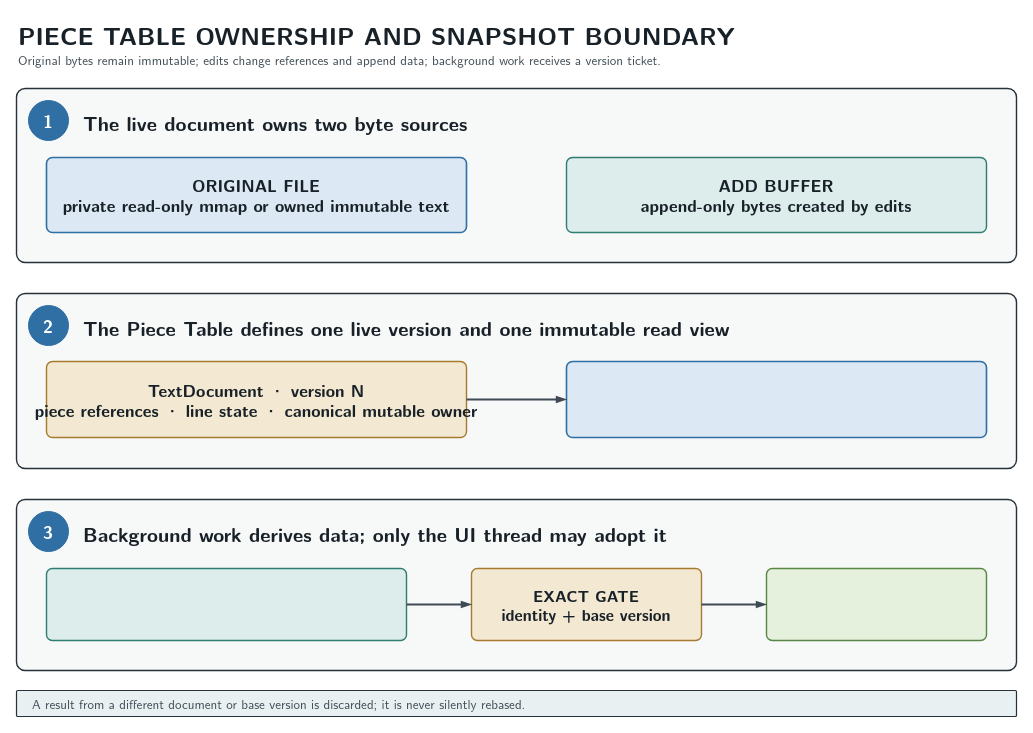
This 1033x733 diagram has some shape labels left out. The shapes that lost their labels are listed below. From the top down, each one's box as (x1, y1, x2, y2) in pixels, then its label:
(565, 360, 987, 438): ReadSnapshot document identity · base version · immutable sources
(45, 567, 407, 641): DERIVED RESULT projection, ledger packet, or staged edit
(765, 567, 987, 641): ADOPT model first · project later
